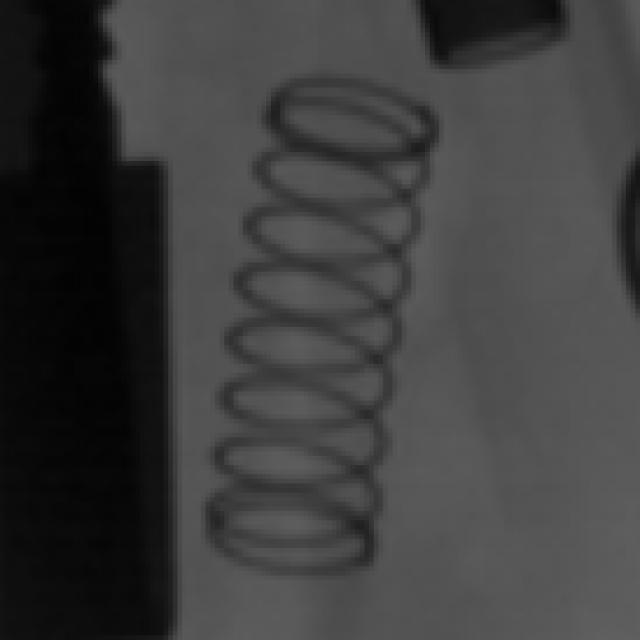GUN: (395, 1, 568, 65)
KNIFE: (43, 154, 179, 632)
